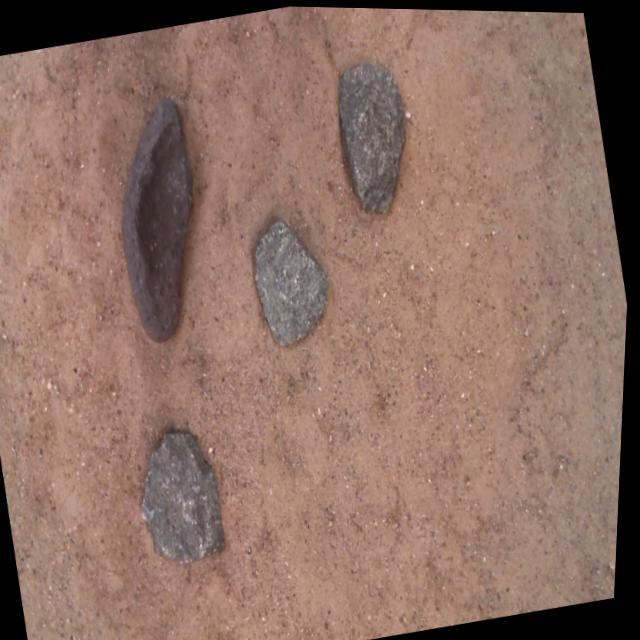rock: (124, 99, 194, 342), (147, 432, 230, 562), (340, 62, 407, 211), (257, 220, 330, 345)
